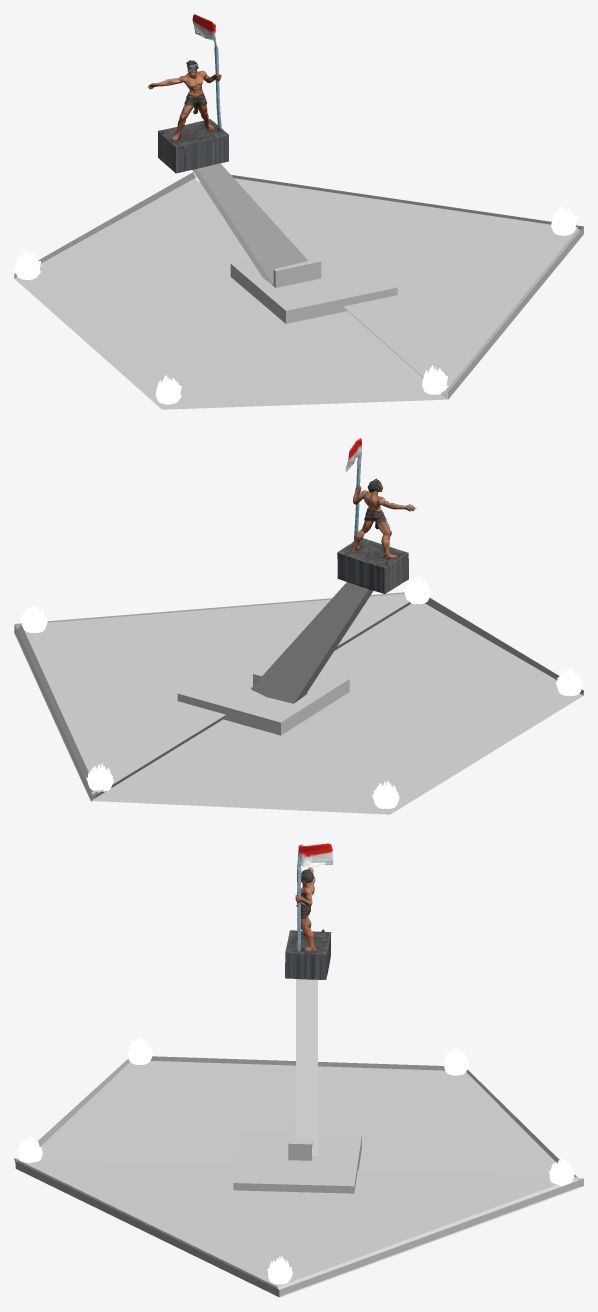
The model's file is yuda .glb.
The picture shows the model from 3 angles, top to bottom: view 1: azimuth 30°, elevation 25°; view 2: azimuth 150°, elevation 25°; view 3: azimuth 270°, elevation 25°; orthographic projection. The views are drawn at different scales.
Visible parts, largest first — view 1: Cube.003, Cube.001, temp, Cube, Fuego, Fuego.002, Fuego.001, Fuego.003; view 2: Cube.003, Cube.001, Cube, temp, Fuego.001, Fuego.002, Fuego.003, Fuego, Fuego.004; view 3: Cube.003, Cube.001, temp, Cube.
Part boxes in pixels (box(x1,y1,x2,y2)): Cube.003: box(14, 172, 583, 409); Cube.001: box(230, 240, 397, 323); temp: box(147, 14, 228, 173); Cube: box(192, 163, 307, 284); Fuego: box(550, 206, 577, 235); Fuego.002: box(155, 375, 181, 404); Fuego.001: box(422, 365, 448, 394); Fuego.003: box(15, 250, 41, 279); Cube.003: box(14, 592, 583, 814); Cube.001: box(177, 650, 349, 735); Cube: box(251, 582, 373, 703); temp: box(337, 438, 416, 593); Fuego.001: box(403, 575, 431, 604); Fuego.002: box(555, 667, 583, 696); Fuego.003: box(372, 780, 399, 808); Fuego: box(20, 604, 47, 632); Fuego.004: box(86, 763, 113, 791); Cube.003: box(14, 1056, 583, 1297); Cube.001: box(233, 1123, 361, 1193); temp: box(285, 843, 333, 979); Cube: box(296, 979, 317, 1156).
Bounding box in the file's own units: 9.23 × 5.14 × 9.4.
Materials: 6 (1 with a texture image).
